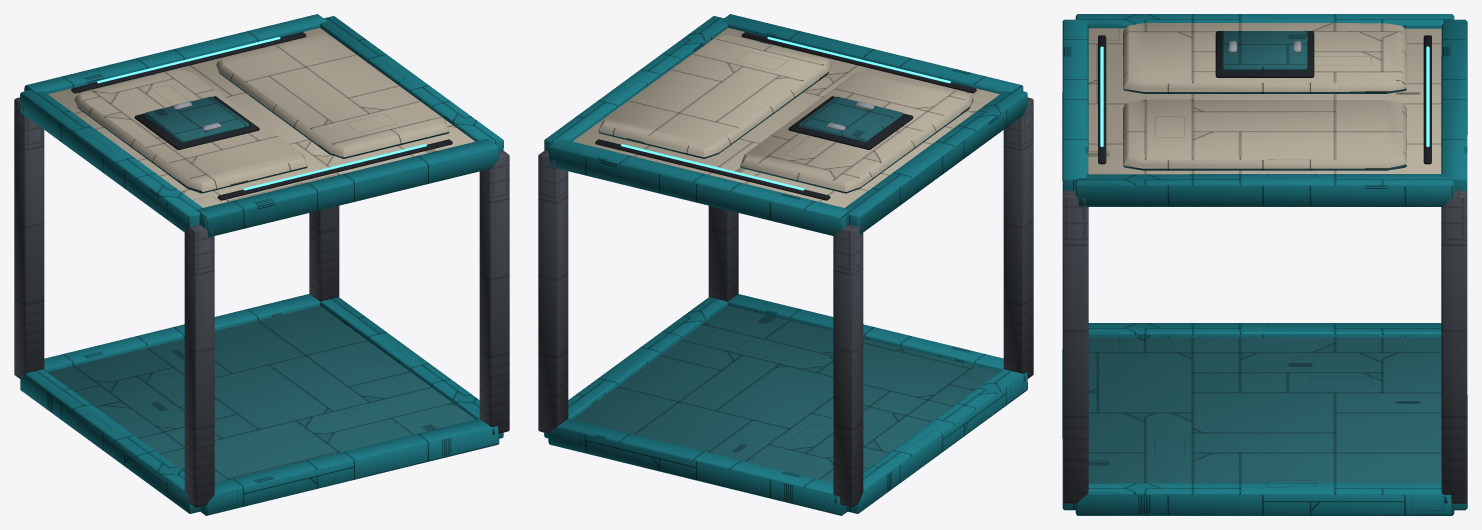
The model's file is pressure_corridor_cross_lod1.glb.
The picture shows the model from 3 angles, left to right: view 1: azimuth 30°, elevation 25°; view 2: azimuth 150°, elevation 25°; view 3: azimuth 270°, elevation 25°; orthographic projection. The views are drawn at different scales.
Visible parts, largest first — view 1: LOD1_Livery, LOD1_Armor, LOD1_Hull, LOD1_Mechanical, LOD1_MechanicalDark, LOD1_Lights_Cyan; view 2: LOD1_Livery, LOD1_Armor, LOD1_Hull, LOD1_Mechanical, LOD1_MechanicalDark, LOD1_Lights_Cyan; view 3: LOD1_Armor, LOD1_Hull, LOD1_Livery, LOD1_Mechanical, LOD1_MechanicalDark, LOD1_Lights_Cyan.
Part boxes in pixels (x1=…): LOD1_Livery: x1=20, y1=14, x2=503, y2=515; LOD1_Armor: x1=48, y1=71, x2=475, y2=482; LOD1_Hull: x1=48, y1=28, x2=474, y2=207; LOD1_Mechanical: x1=14, y1=97, x2=509, y2=507; LOD1_MechanicalDark: x1=71, y1=32, x2=452, y2=200; LOD1_Lights_Cyan: x1=97, y1=37, x2=426, y2=190; LOD1_Livery: x1=544, y1=14, x2=1027, y2=515; LOD1_Armor: x1=572, y1=68, x2=999, y2=482; LOD1_Hull: x1=573, y1=28, x2=999, y2=207; LOD1_Mechanical: x1=538, y1=97, x2=1033, y2=507; LOD1_MechanicalDark: x1=595, y1=32, x2=976, y2=200; LOD1_Lights_Cyan: x1=621, y1=37, x2=950, y2=190; LOD1_Armor: x1=1088, y1=30, x2=1441, y2=483; LOD1_Hull: x1=1088, y1=23, x2=1441, y2=174; LOD1_Livery: x1=1062, y1=14, x2=1467, y2=515; LOD1_Mechanical: x1=1062, y1=190, x2=1467, y2=503; LOD1_MechanicalDark: x1=1098, y1=31, x2=1431, y2=164; LOD1_Lights_Cyan: x1=1100, y1=46, x2=1429, y2=146.
Size of the model in its own units: 4.28 by 4.09 by 4.28.
7 materials, 6 textured.
